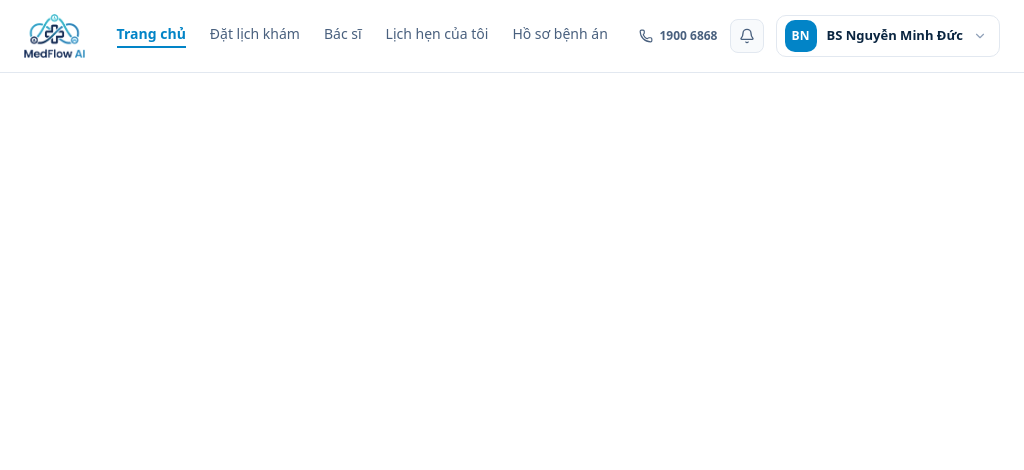
Test: AppHeader › staff user (DOCTOR) → hiển thị tên bác sĩ, nhãn role, mã NV và link Bàn làm việc trong UserMenu
Expected: the text "BS Nguyễn Minh Đức" is shown, [826, 26, 963, 46]
Click the button named "Menu tài khoản" at [888, 36], box [776, 15, 1000, 57]
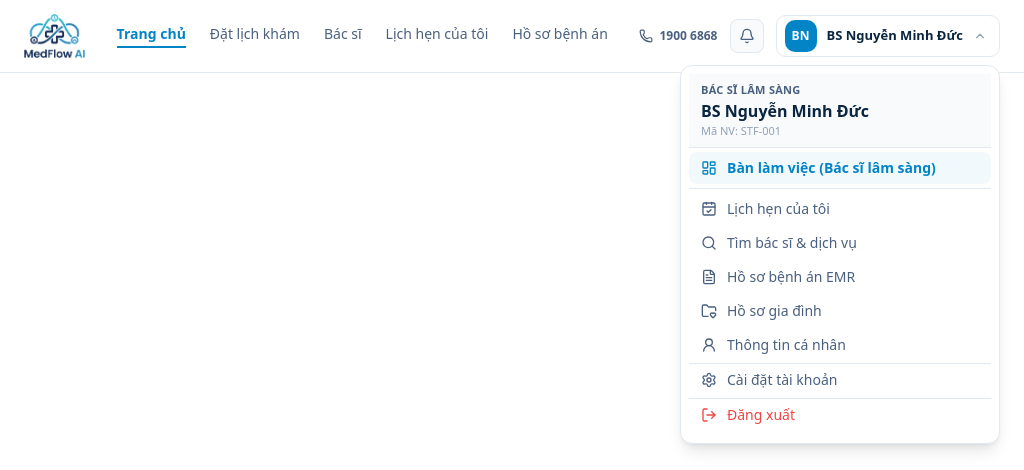
Expected: the text "Bác sĩ lâm sàng" is shown, [701, 82, 801, 97]
Expected: the text "Mã NV: STF-001" is shown, [701, 122, 781, 138]
